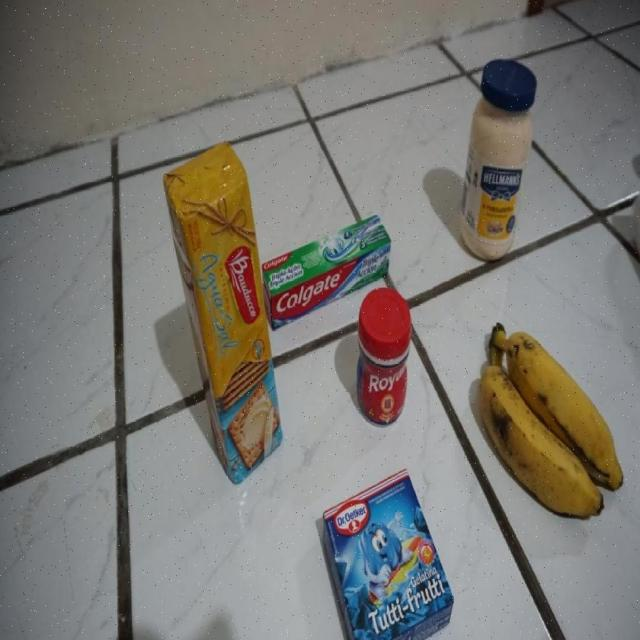Banana: (479, 321, 624, 522)
Cracker: (162, 140, 284, 487)
Gelatine: (322, 466, 453, 640)
Mayonnaise: (459, 56, 538, 260)
Toothpaste: (261, 213, 392, 332)
Yeast: (354, 287, 412, 426)
